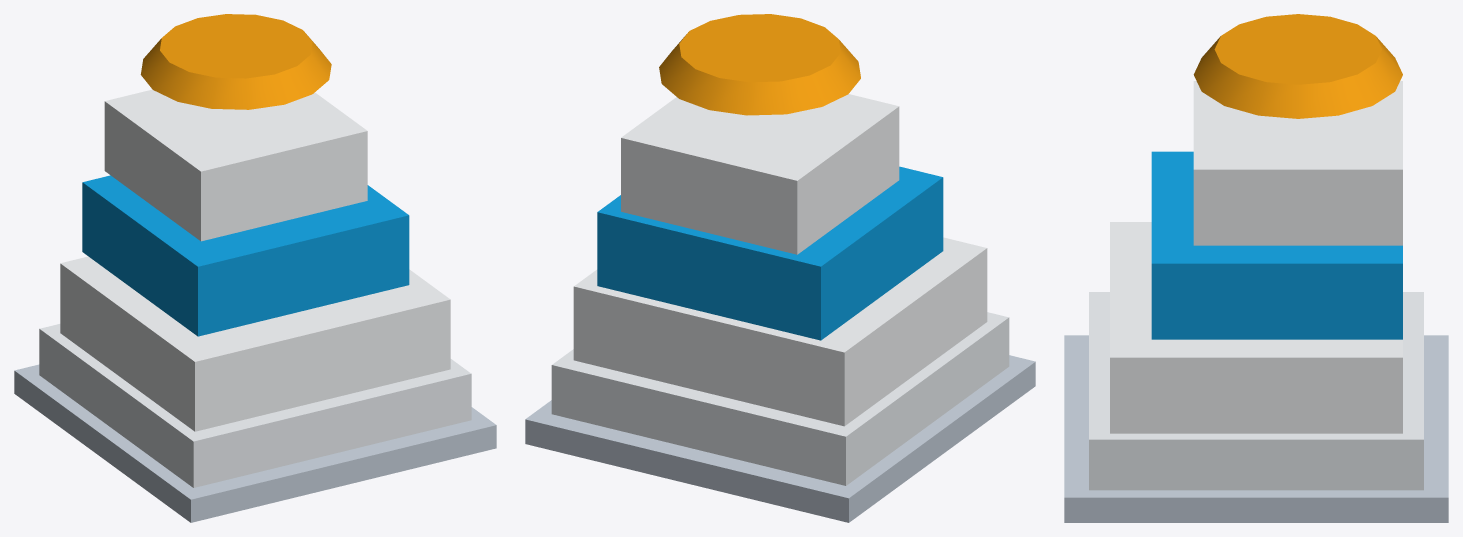
Rendered from bld_c3_cell_21.glb.
The picture shows the model from 3 angles, left to right: view 1: azimuth 30°, elevation 25°; view 2: azimuth 150°, elevation 25°; view 3: azimuth 270°, elevation 25°; orthographic projection. The views are drawn at different scales.
Parts seen in each view (by area): view 1: Bld_C3_Cell_21_BespokeLandmark; view 2: Bld_C3_Cell_21_BespokeLandmark; view 3: Bld_C3_Cell_21_BespokeLandmark.
Boxes of the visible parts, bbox=[...] form: Bld_C3_Cell_21_BespokeLandmark: bbox=[14, 14, 496, 522]; Bld_C3_Cell_21_BespokeLandmark: bbox=[525, 14, 1035, 522]; Bld_C3_Cell_21_BespokeLandmark: bbox=[1064, 14, 1448, 522].
Bounding box in the file's own units: 0.55 × 0.62 × 0.55.
